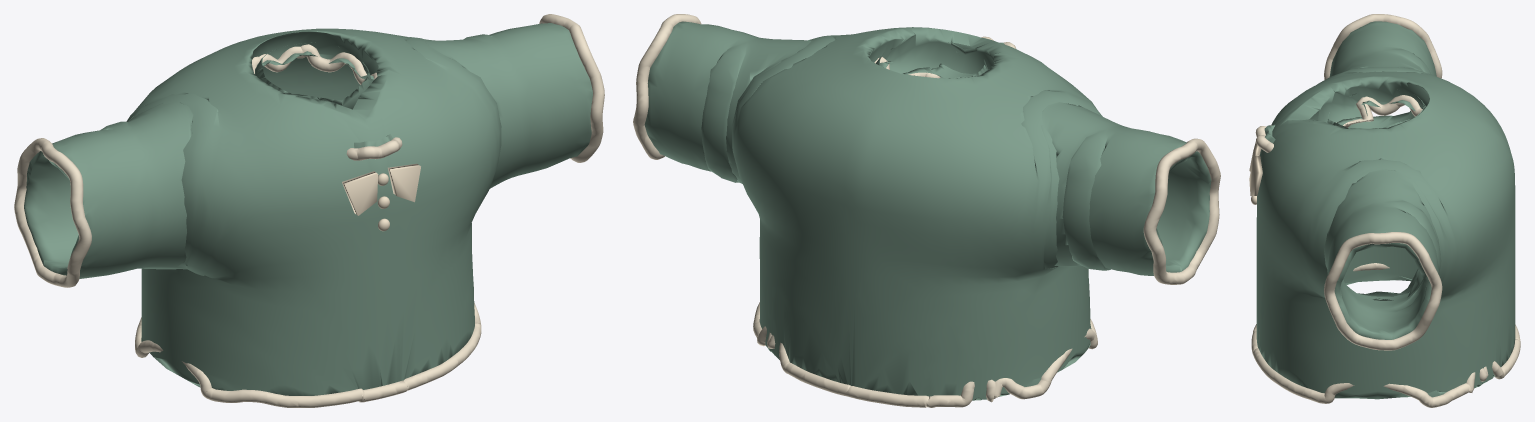
File: 3HT-masculino.glb
3 views of the same model, side by side, from view 1: azimuth 30°, elevation 25°; view 2: azimuth 150°, elevation 25°; view 3: azimuth 270°, elevation 25° (orthographic). The views are drawn at different scales.
Parts seen in each view (by area): view 1: fitted-shell, bound-edge (×4), collar--1, collar-1; view 2: fitted-shell, bound-edge (×3); view 3: fitted-shell, bound-edge (×4), collar-1.
Boxes of the visible parts, box(x1,y1,x2,y2) form: fitted-shell: box(24, 23, 592, 395); bound-edge (×4): box(14, 14, 604, 407); collar--1: box(342, 171, 378, 215); collar-1: box(388, 163, 420, 202); fitted-shell: box(644, 21, 1211, 400); bound-edge (×3): box(633, 14, 1220, 407); fitted-shell: box(1256, 21, 1515, 399); bound-edge (×4): box(1251, 14, 1520, 407); collar-1: box(1249, 156, 1262, 195).
Size of the model in its own units: 0.063 by 0.0326 by 0.032.
